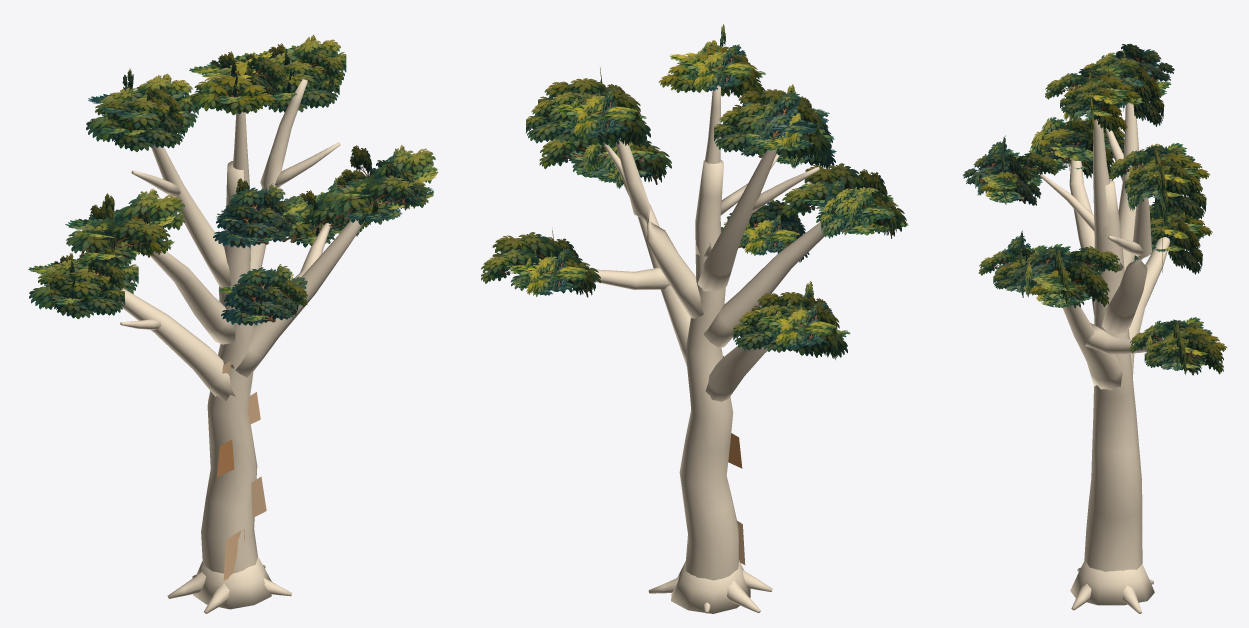
Rendered from TREE_EUCALYPTUS_001_v006_LOD_CLOSE.glb.
The picture shows the model from 3 angles, left to right: view 1: azimuth 30°, elevation 25°; view 2: azimuth 150°, elevation 25°; view 3: azimuth 270°, elevation 25°; orthographic projection. The views are drawn at different scales.
Parts seen in each view (by area): view 1: TREE_EUCALYPTUS_001_CLOSE_AUTHORED_FOLIAGE_ISLANDS, TREE_EUCALYPTUS_001_CLOSE_MAIN_TRUNK, TREE_EUCALYPTUS_001_CLOSE_LOWER_LEFT_SWEEP, TREE_EUCALYPTUS_001_CLOSE_MID_RIGHT_SWEEP, TREE_EUCALYPTUS_001_CLOSE_UPPER_LEFT_FORK, TREE_EUCALYPTUS_001_CLOSE_MID_LEFT_ARCH, TREE_EUCALYPTUS_001_CLOSE_SCULPTED_ROOT_COLLAR, TREE_EUCALYPTUS_001_CLOSE_GRAPHIC_BARK, TREE_EUCALYPTUS_001_CLOSE_UPPER_RIGHT_ARCH, TREE_EUCALYPTUS_001_CLOSE_CENTRAL_CROWN_FORK, TREE_EUCALYPTUS_001_CLOSE_RIGHT_TOP_SUPPORT; view 2: TREE_EUCALYPTUS_001_CLOSE_AUTHORED_FOLIAGE_ISLANDS, TREE_EUCALYPTUS_001_CLOSE_MAIN_TRUNK, TREE_EUCALYPTUS_001_CLOSE_UPPER_RIGHT_ARCH, TREE_EUCALYPTUS_001_CLOSE_MID_LEFT_ARCH, TREE_EUCALYPTUS_001_CLOSE_UPPER_LEFT_FORK, TREE_EUCALYPTUS_001_CLOSE_SCULPTED_ROOT_COLLAR, TREE_EUCALYPTUS_001_CLOSE_LOWER_LEFT_SWEEP, TREE_EUCALYPTUS_001_CLOSE_MID_RIGHT_SWEEP, TREE_EUCALYPTUS_001_CLOSE_LOWER_RIGHT_REACH, TREE_EUCALYPTUS_001_CLOSE_CENTRAL_CROWN_FORK, TREE_EUCALYPTUS_001_CLOSE_LEFT_TOP_SUPPORT; view 3: TREE_EUCALYPTUS_001_CLOSE_AUTHORED_FOLIAGE_ISLANDS, TREE_EUCALYPTUS_001_CLOSE_MAIN_TRUNK, TREE_EUCALYPTUS_001_CLOSE_UPPER_RIGHT_ARCH, TREE_EUCALYPTUS_001_CLOSE_SCULPTED_ROOT_COLLAR, TREE_EUCALYPTUS_001_CLOSE_MID_RIGHT_SWEEP, TREE_EUCALYPTUS_001_CLOSE_UPPER_LEFT_FORK, TREE_EUCALYPTUS_001_CLOSE_CENTRAL_CROWN_FORK, TREE_EUCALYPTUS_001_CLOSE_LOWER_LEFT_SWEEP, TREE_EUCALYPTUS_001_CLOSE_MID_LEFT_ARCH, TREE_EUCALYPTUS_001_CLOSE_LOWER_RIGHT_REACH, TREE_EUCALYPTUS_001_CLOSE_CENTRE_BACK_SUPPORT.
Part boxes in pixels (x1,y1,x2,y2): TREE_EUCALYPTUS_001_CLOSE_AUTHORED_FOLIAGE_ISLANDS: [28, 34, 438, 325]; TREE_EUCALYPTUS_001_CLOSE_MAIN_TRUNK: [201, 161, 257, 573]; TREE_EUCALYPTUS_001_CLOSE_LOWER_LEFT_SWEEP: [117, 288, 235, 401]; TREE_EUCALYPTUS_001_CLOSE_MID_RIGHT_SWEEP: [230, 219, 364, 377]; TREE_EUCALYPTUS_001_CLOSE_UPPER_LEFT_FORK: [151, 144, 231, 287]; TREE_EUCALYPTUS_001_CLOSE_MID_LEFT_ARCH: [150, 251, 235, 344]; TREE_EUCALYPTUS_001_CLOSE_SCULPTED_ROOT_COLLAR: [193, 557, 271, 609]; TREE_EUCALYPTUS_001_CLOSE_GRAPHIC_BARK: [216, 361, 266, 580]; TREE_EUCALYPTUS_001_CLOSE_UPPER_RIGHT_ARCH: [250, 79, 307, 270]; TREE_EUCALYPTUS_001_CLOSE_CENTRAL_CROWN_FORK: [233, 111, 249, 189]; TREE_EUCALYPTUS_001_CLOSE_RIGHT_TOP_SUPPORT: [274, 142, 340, 186]; TREE_EUCALYPTUS_001_CLOSE_AUTHORED_FOLIAGE_ISLANDS: [481, 24, 908, 359]; TREE_EUCALYPTUS_001_CLOSE_MAIN_TRUNK: [679, 160, 738, 580]; TREE_EUCALYPTUS_001_CLOSE_UPPER_RIGHT_ARCH: [616, 138, 703, 318]; TREE_EUCALYPTUS_001_CLOSE_MID_LEFT_ARCH: [703, 222, 825, 347]; TREE_EUCALYPTUS_001_CLOSE_UPPER_LEFT_FORK: [697, 136, 779, 292]; TREE_EUCALYPTUS_001_CLOSE_SCULPTED_ROOT_COLLAR: [671, 560, 750, 613]; TREE_EUCALYPTUS_001_CLOSE_LOWER_LEFT_SWEEP: [705, 346, 767, 401]; TREE_EUCALYPTUS_001_CLOSE_MID_RIGHT_SWEEP: [615, 167, 690, 366]; TREE_EUCALYPTUS_001_CLOSE_LOWER_RIGHT_REACH: [594, 268, 670, 289]; TREE_EUCALYPTUS_001_CLOSE_CENTRAL_CROWN_FORK: [695, 85, 721, 256]; TREE_EUCALYPTUS_001_CLOSE_LEFT_TOP_SUPPORT: [751, 166, 819, 212]; TREE_EUCALYPTUS_001_CLOSE_AUTHORED_FOLIAGE_ISLANDS: [962, 43, 1226, 375]; TREE_EUCALYPTUS_001_CLOSE_MAIN_TRUNK: [1084, 179, 1142, 571]; TREE_EUCALYPTUS_001_CLOSE_UPPER_RIGHT_ARCH: [1101, 182, 1151, 334]; TREE_EUCALYPTUS_001_CLOSE_SCULPTED_ROOT_COLLAR: [1070, 560, 1154, 605]; TREE_EUCALYPTUS_001_CLOSE_MID_RIGHT_SWEEP: [1060, 299, 1122, 390]; TREE_EUCALYPTUS_001_CLOSE_UPPER_LEFT_FORK: [1118, 103, 1138, 271]; TREE_EUCALYPTUS_001_CLOSE_CENTRAL_CROWN_FORK: [1093, 119, 1123, 271]; TREE_EUCALYPTUS_001_CLOSE_LOWER_LEFT_SWEEP: [1129, 236, 1170, 376]; TREE_EUCALYPTUS_001_CLOSE_MID_LEFT_ARCH: [1069, 159, 1129, 338]; TREE_EUCALYPTUS_001_CLOSE_LOWER_RIGHT_REACH: [1085, 323, 1156, 354]; TREE_EUCALYPTUS_001_CLOSE_CENTRE_BACK_SUPPORT: [1040, 174, 1094, 231].
Bounding box in the file's own units: 9.62 × 13.95 × 6.58.
5 materials, 1 textured.
